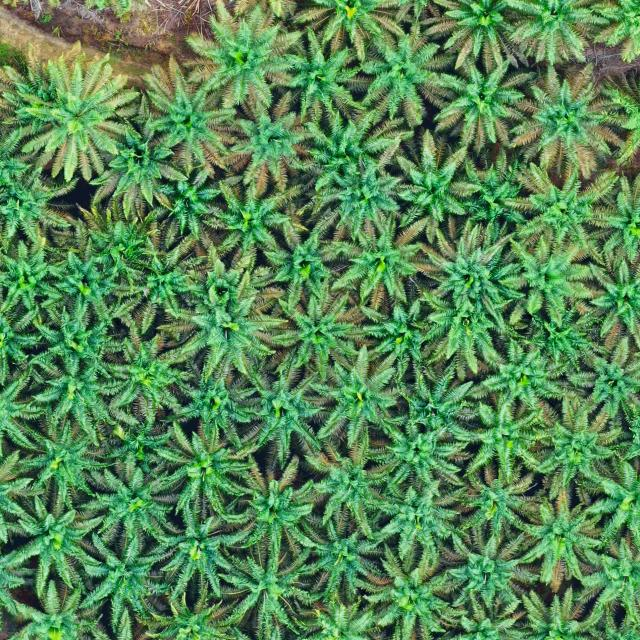Tree: (0, 48, 139, 186), (165, 264, 289, 394), (504, 58, 628, 182), (79, 92, 193, 224), (181, 0, 306, 115), (132, 53, 243, 181), (0, 487, 106, 606), (421, 216, 526, 325), (148, 496, 253, 605), (416, 55, 533, 152), (504, 158, 623, 253), (354, 28, 461, 133), (504, 491, 614, 593), (115, 221, 212, 336), (260, 27, 365, 133), (327, 210, 436, 312), (152, 418, 262, 518), (74, 447, 181, 548), (76, 526, 174, 635), (197, 175, 307, 272), (225, 88, 320, 200), (267, 282, 367, 388), (22, 351, 128, 451), (307, 341, 405, 446), (532, 392, 626, 501), (303, 430, 396, 540), (216, 539, 316, 639), (225, 457, 322, 558), (102, 326, 198, 428), (15, 413, 116, 509), (238, 360, 328, 467), (418, 287, 518, 383), (470, 332, 579, 420), (496, 231, 595, 327), (438, 524, 538, 619), (378, 131, 478, 224), (357, 546, 454, 640), (306, 155, 406, 246), (173, 352, 262, 454), (456, 389, 549, 483), (414, 0, 533, 73), (368, 414, 470, 499), (300, 508, 390, 604), (302, 107, 406, 190), (371, 471, 462, 563), (72, 196, 164, 287), (37, 236, 127, 329), (29, 289, 122, 379), (256, 216, 345, 310), (291, 0, 411, 68), (438, 460, 542, 537), (499, 0, 612, 69), (569, 523, 640, 627), (0, 166, 79, 256), (446, 153, 530, 237), (573, 253, 640, 355), (355, 297, 434, 383), (570, 330, 640, 425), (396, 369, 480, 446), (4, 577, 105, 640), (583, 446, 640, 557), (0, 235, 67, 328), (135, 586, 243, 640), (96, 416, 178, 485), (584, 171, 640, 268), (512, 583, 606, 640), (595, 66, 640, 171), (443, 591, 534, 640), (302, 593, 383, 640), (591, 0, 640, 65), (616, 398, 640, 482), (582, 606, 640, 640)
